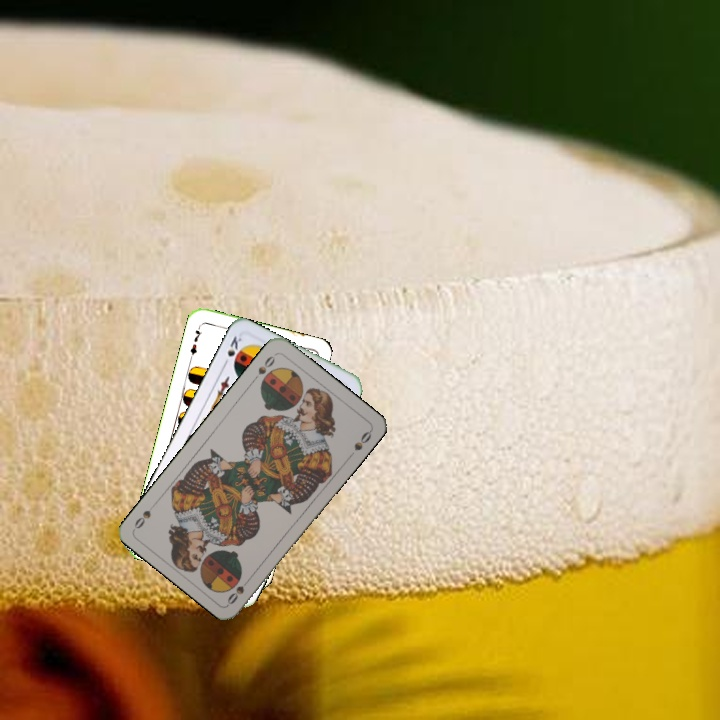E7: (186, 322, 205, 362)
SK: (219, 332, 244, 369)
SO: (223, 572, 254, 607), (249, 350, 279, 384)
